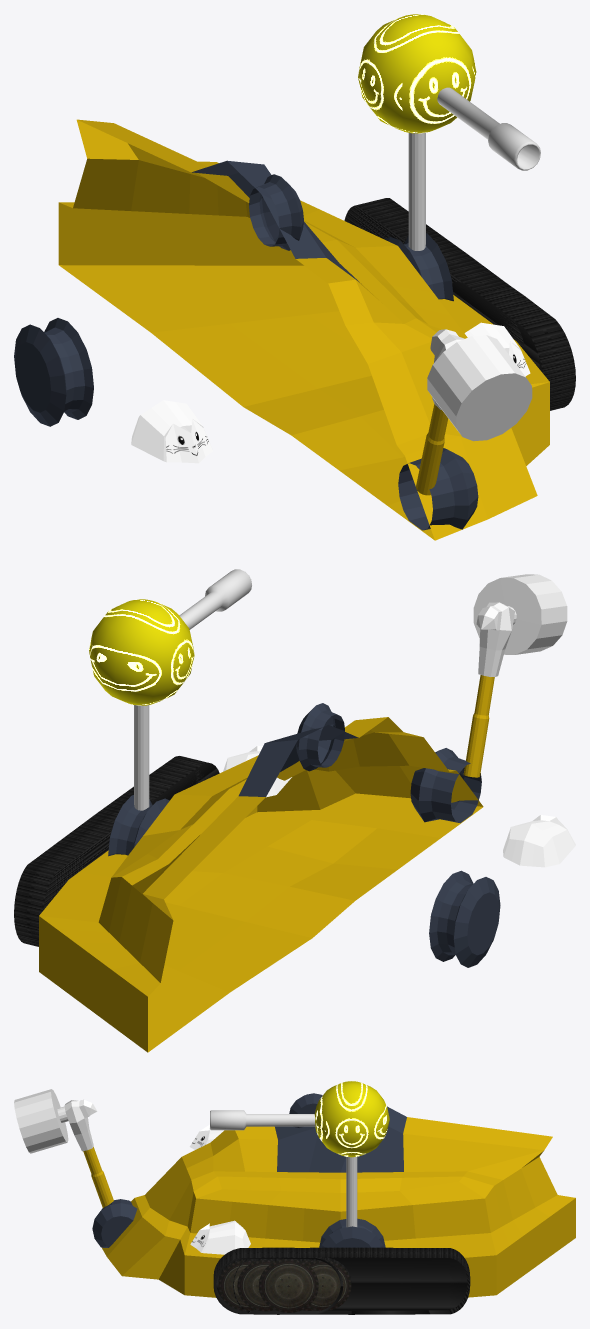
File: bot-1.gltf
3 renders of one model, top to bottom at view 1: azimuth 30°, elevation 25°; view 2: azimuth 150°, elevation 25°; view 3: azimuth 270°, elevation 25°, orthographic. The views are drawn at different scales.
Parts seen in each view (by area): view 1: BotBody1, WeaponAceedHead, WeaponHammerEnd, BotTurretR, BotTransportDoubleTracks, BotTransportTracks, BotTurretFront, ShieldFluffyKittenR, WeaponAceedBarrel, BotTurretTop, WeaponAceedTube, BotTurretL (+2 smaller); view 2: BotBody1, WeaponAceedHead, BotTransportTracks, BotTurretR, WeaponHammerEnd, BotTurretFront, ShieldFluffyKittenR, BotTurretTop, WeaponHammerTop, BotTransportDoubleTracks, WeaponAceedBarrel, BotTurretL (+2 smaller); view 3: BotBody1, BotTransportTracks, WeaponAceedHead, BotTransportTracksWheels, BotTransportWheels, WeaponHammerEnd, BotTransportDoubleTracks, WeaponAceedBarrel, BotTurretL, ShieldFluffyKittenL, BotTurretFront, BotTransportDoubleTracksWheels (+5 smaller).
Part boxes in pixels (x1,y1,x2,y2): BotBody1: (58,119,549,540); WeaponAceedHead: (358,14,476,133); WeaponHammerEnd: (427,335,532,441); BotTurretR: (14,318,93,426); BotTransportDoubleTracks: (452,281,575,410); BotTransportTracks: (344,198,524,350); BotTurretFront: (398,448,478,530); ShieldFluffyKittenR: (131,400,212,463); WeaponAceedBarrel: (437,87,540,170); BotTurretTop: (249,174,303,250); WeaponAceedTube: (408,132,425,250); BotTurretL: (384,233,453,301); BotBody1: (39,717,483,1052); WeaponAceedHead: (89,599,194,705); BotTransportTracks: (14,770,204,946); BotTurretR: (429,870,500,967); WeaponHammerEnd: (473,574,567,654); BotTurretFront: (410,748,481,823); ShieldFluffyKittenR: (503,815,575,867); BotTurretTop: (296,703,344,771); WeaponHammerTop: (476,602,514,676); BotTransportDoubleTracks: (149,756,219,804); WeaponAceedBarrel: (179,569,251,629); BotTurretL: (108,795,169,856); BotBody1: (101,1106,575,1297); BotTransportTracks: (233,1247,470,1314); WeaponAceedHead: (314,1081,389,1157); BotTransportTracksWheels: (237,1257,351,1311); BotTransportWheels: (258,1258,318,1312); WeaponHammerEnd: (14,1089,68,1153); BotTransportDoubleTracks: (213,1247,343,1314); WeaponAceedBarrel: (210,1110,315,1130); BotTurretL: (319,1218,385,1247); ShieldFluffyKittenL: (190,1220,250,1254); BotTurretFront: (92,1199,137,1247); BotTransportDoubleTracksWheels: (218,1259,315,1310).
Bounding box in the file's own units: 1.35 × 0.9987 × 2.37.
8 materials, 3 textured.
